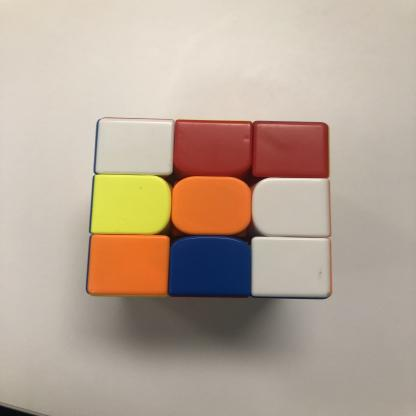UnsolvedCube: (86, 118, 332, 297)
